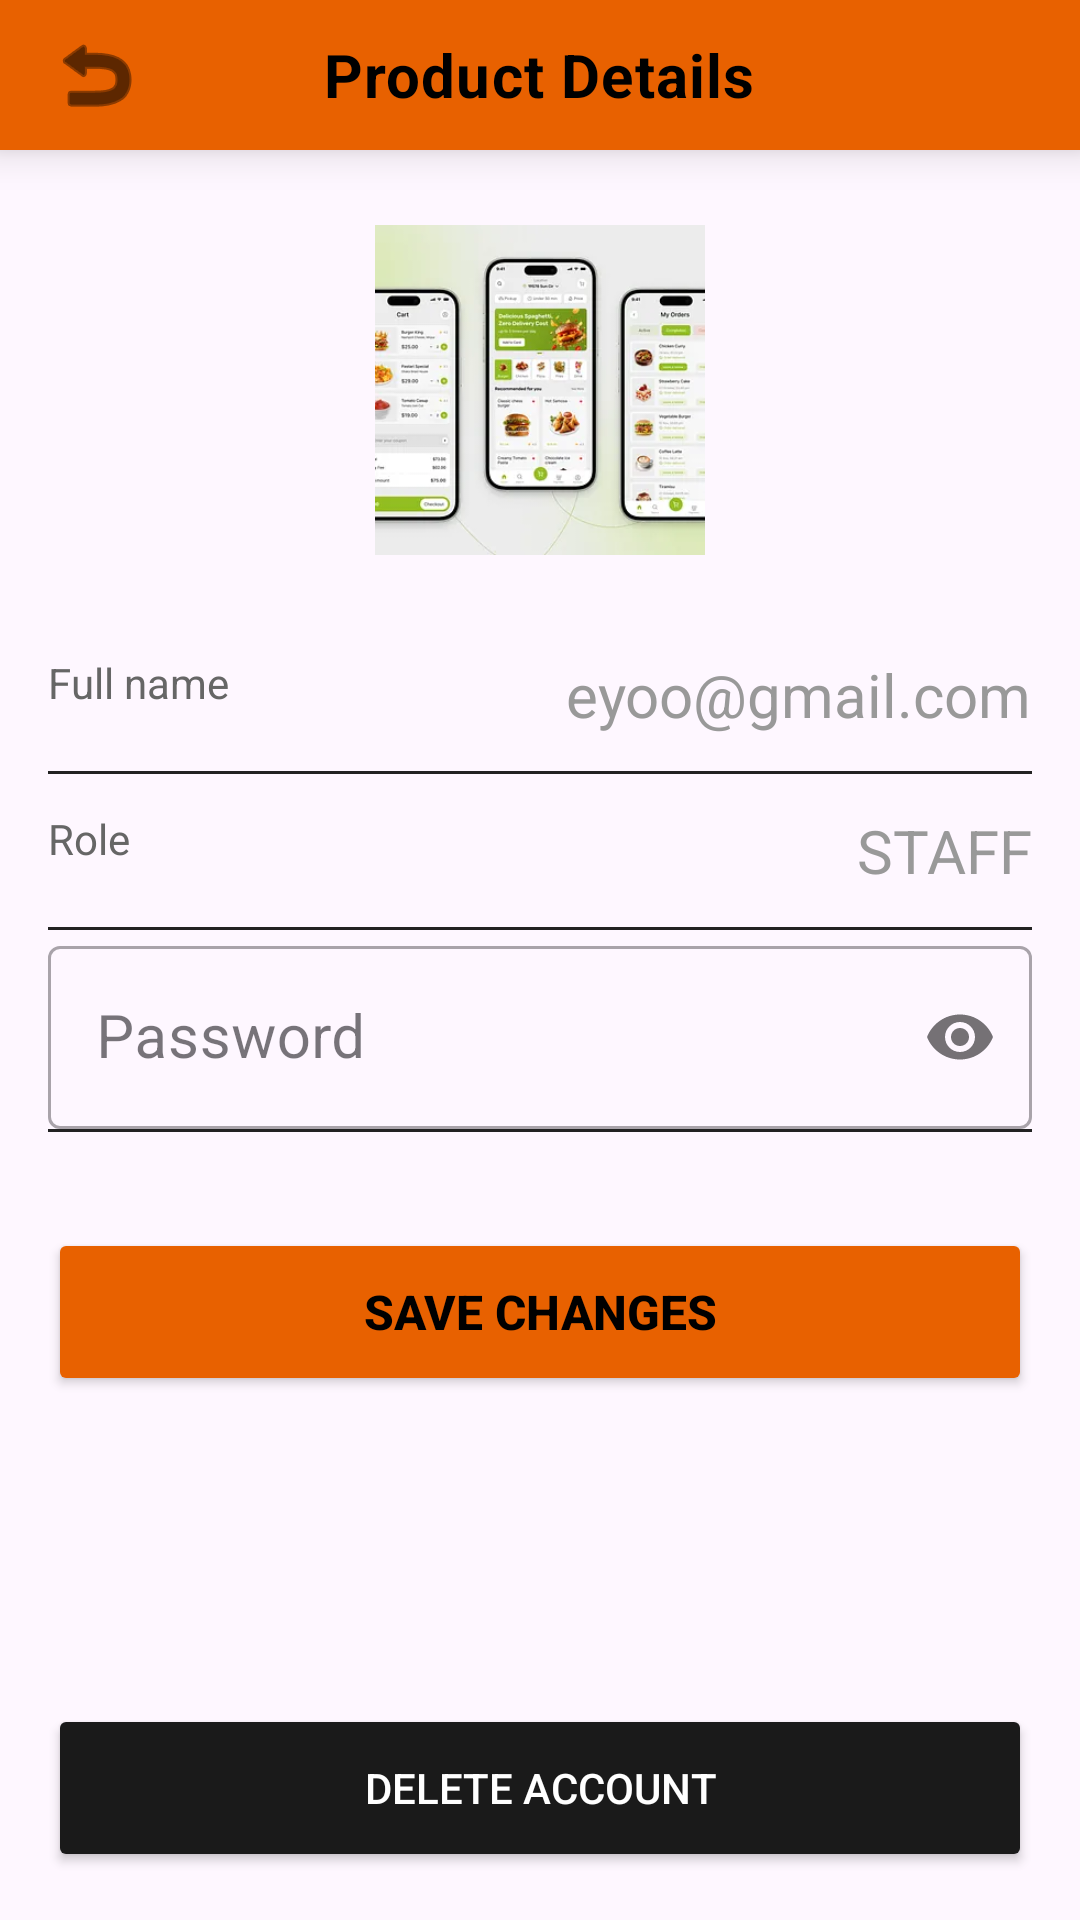

Screen size 1080w x 1920h. Icon name, then its box in pixels as (x1, y1, x2, y2):
Back: (63, 44, 132, 107)
customer order ui: (375, 225, 705, 555)
